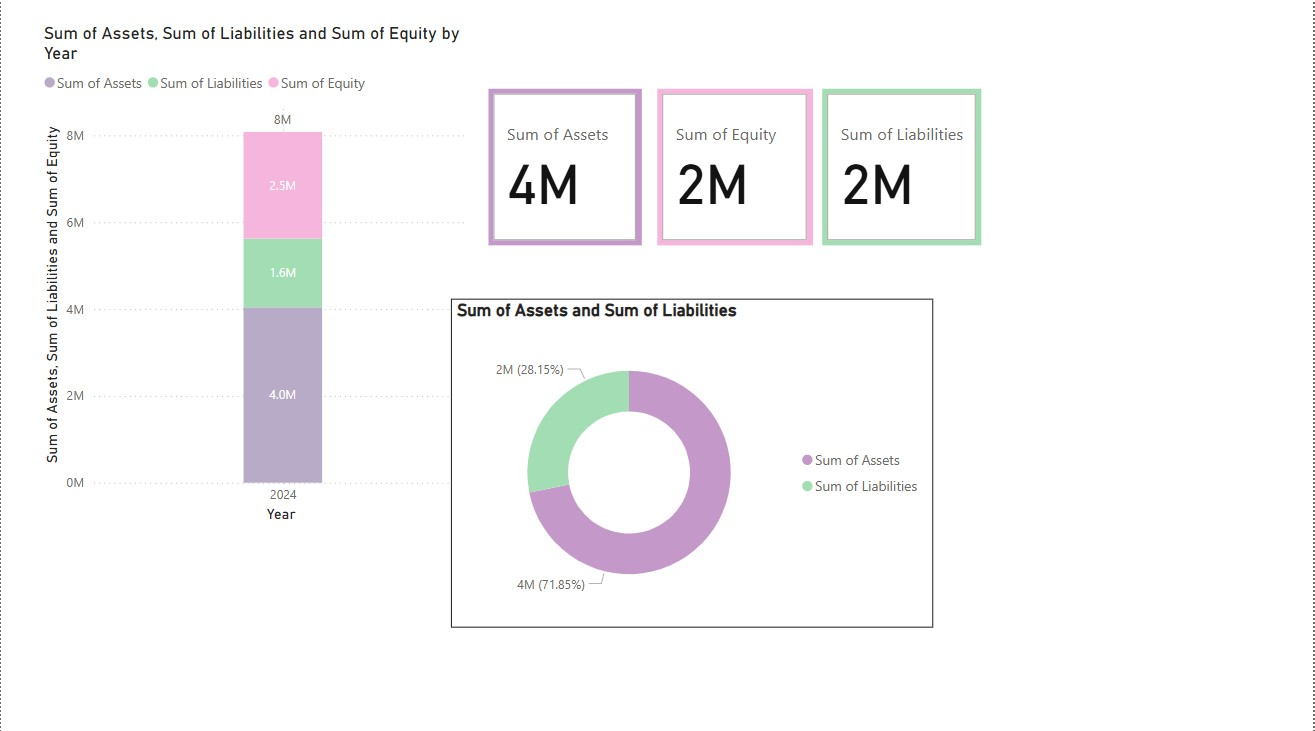

What the dashboard file says about the page in this screenshot:
{"tool":"powerbi","page":{"name":" Financial Health Dashboard -Balance Sheet","canvas":[1280,720],"ordinal":2},"visuals":[{"type":"columnChart","fields":{"Category":["BalanceSheet.Date.Variation.Date Hierarchy.Year","BalanceSheet.Date.Variation.Date Hierarchy.Quarter","BalanceSheet.Date.Variation.Date Hierarchy.Month","BalanceSheet.Date.Variation.Date Hierarchy.Day"],"Y":["Sum(BalanceSheet.Assets)","Sum(BalanceSheet.Liabilities)","Sum(BalanceSheet.Equity)"]},"box":[36.8,22.6,423.9,492.8],"z":0},{"type":"cardVisual","fields":{"Data":["Sum(BalanceSheet.Assets)"]},"box":[476.1,86.7,149.6,153.2],"z":1000},{"type":"cardVisual","fields":{"Data":["Sum(BalanceSheet.Equity)"]},"box":[640,86.7,152,153.2],"z":2000},{"type":"cardVisual","fields":{"Data":["Sum(BalanceSheet.Liabilities)"]},"box":[801.5,86.7,155.5,153.2],"z":3000},{"type":"donutChart","fields":{"Y":["Sum(BalanceSheet.Assets)","Sum(BalanceSheet.Liabilities)"]},"box":[439.3,290.9,470.2,320.6],"z":4000}]}

Visuals, with their boxes in screenshot pixels (x1, y1, x2, y2), scaled from the page's 1280x720 canvas onto the 1315x731 screenshot:
columnChart - BalanceSheet.Date.Variation.Date Hierarchy.Year x BalanceSheet.Date.Variation.Date Hierarchy.Quarter: (left=38, top=23, right=473, bottom=523)
cardVisual - Sum(BalanceSheet.Assets): (left=489, top=88, right=643, bottom=244)
cardVisual - Sum(BalanceSheet.Equity): (left=658, top=88, right=814, bottom=244)
cardVisual - Sum(BalanceSheet.Liabilities): (left=823, top=88, right=983, bottom=244)
donutChart - Sum(BalanceSheet.Assets) x Sum(BalanceSheet.Liabilities): (left=451, top=295, right=934, bottom=621)
